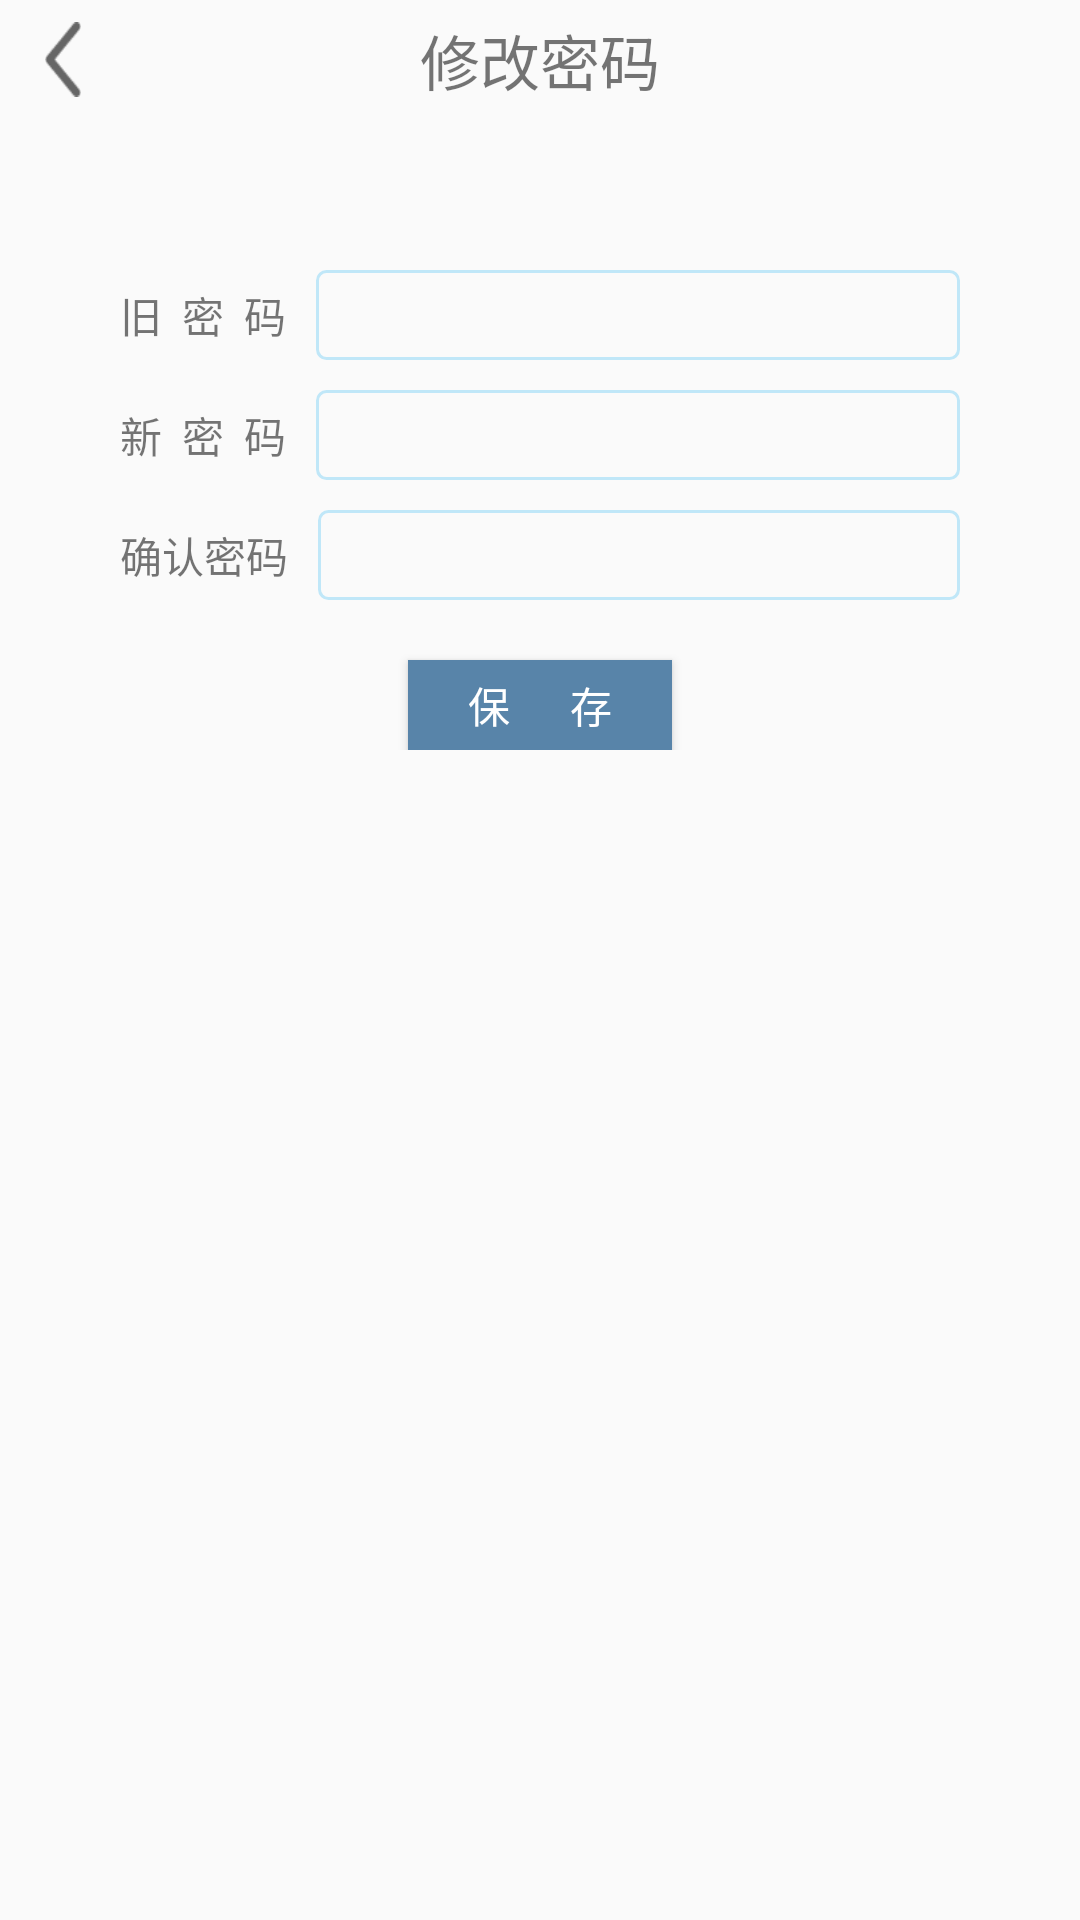

Icon bounding boxes for this 1080 x 1920 phone screenshot, format (x1, y1, x2, y2):
back: (45, 22, 81, 97)
